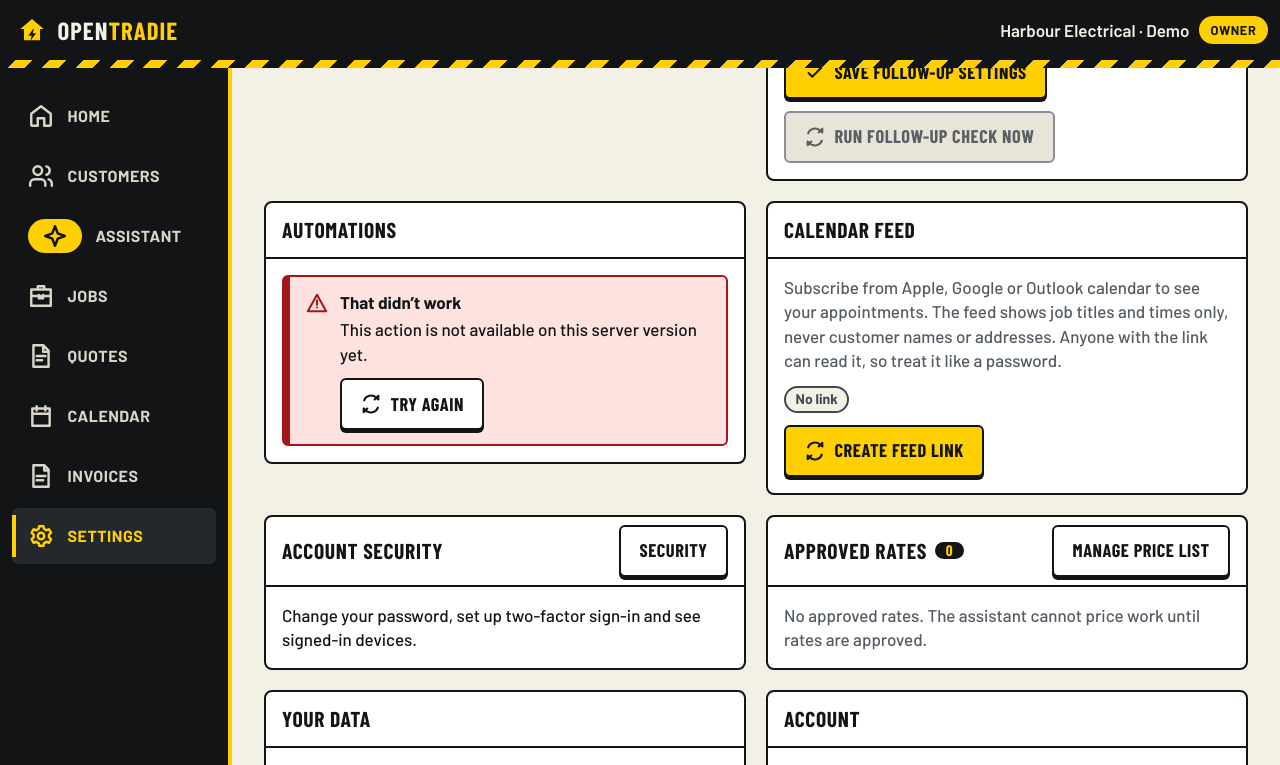
Scenario: calendar feed settings › shows the feed URL once after creating it and offers revoke
The image size is (1280, 765).
(page scrolled)
Step 1. Click the button "Create feed link" → [884, 451], box x1=784 y1=425 x2=984 y2=477
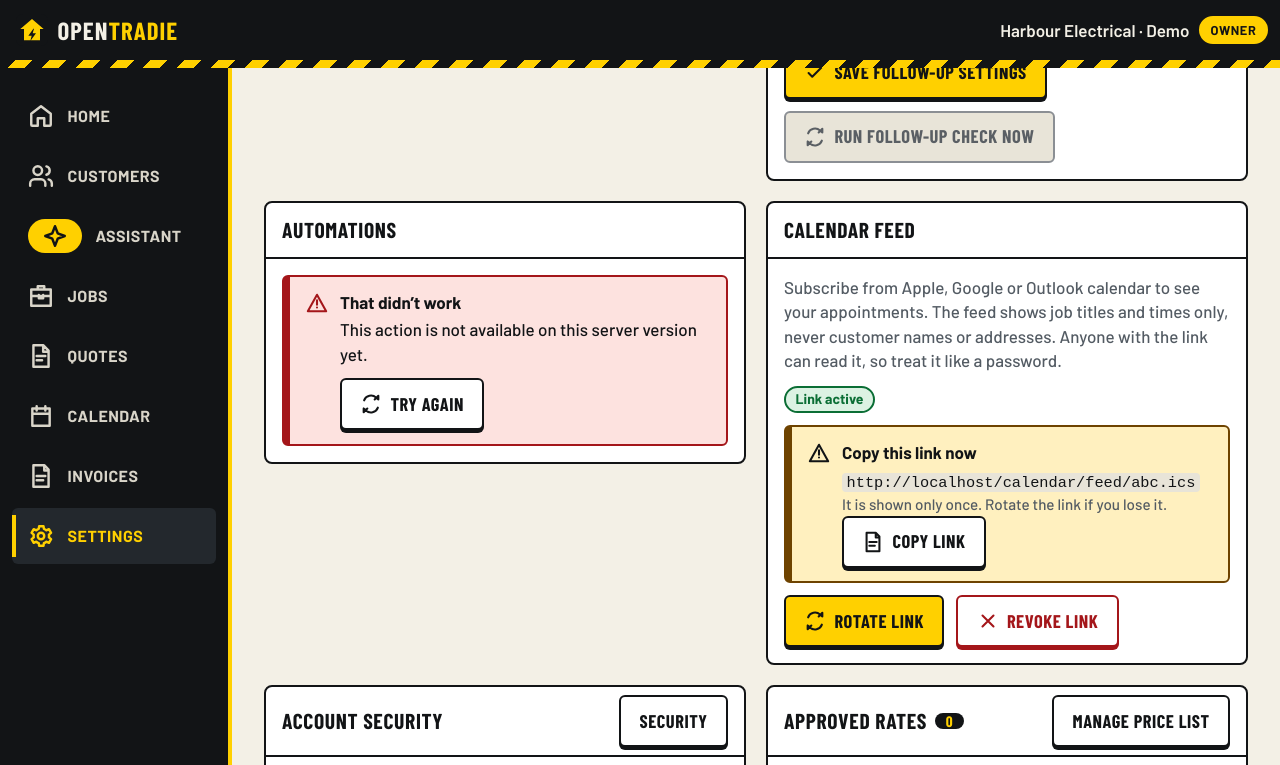
Now the text with test id "calendar-feed-url" reads "http://localhost/calendar/feed/abc.ics", box x1=847 y1=473 x2=1195 y2=491
Step 2. Click the button "Revoke link" → [1038, 621], box x1=956 y1=595 x2=1119 y2=647
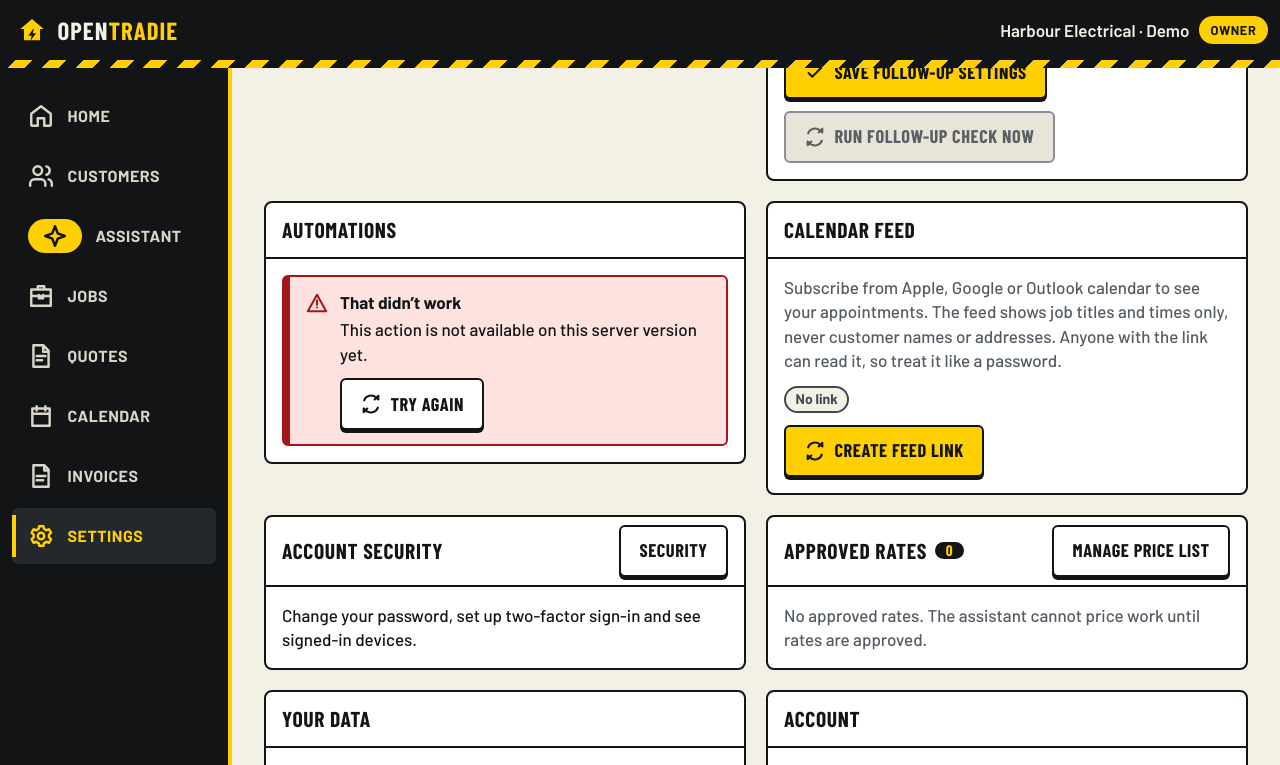
Now the text with test id "calendar-feed-url" is gone
Now the button "Create feed link" is shown, box x1=784 y1=425 x2=984 y2=477
